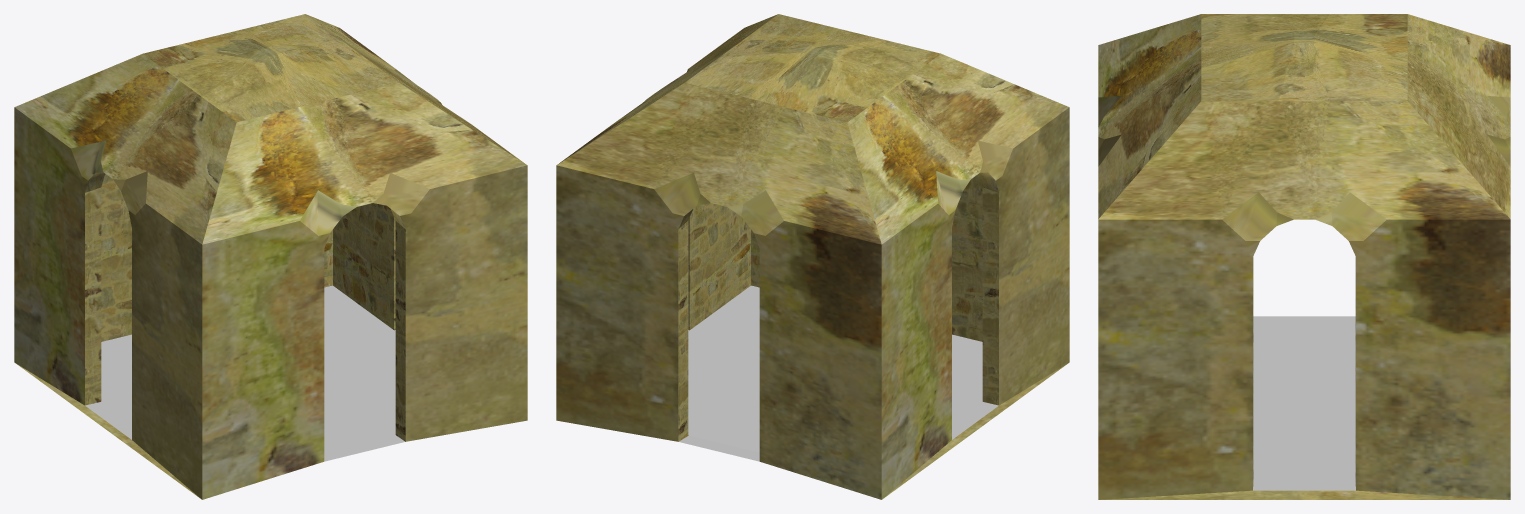
File: cell-1-4way.fbx
3 renders of one model, left to right at view 1: azimuth 30°, elevation 25°; view 2: azimuth 150°, elevation 25°; view 3: azimuth 270°, elevation 25°, orthographic. The views are drawn at different scales.
Parts seen in each view (by area): view 1: cell-4-way; view 2: cell-4-way; view 3: cell-4-way.
Boxes of the visible parts, bbox=[...] form: cell-4-way: bbox=[14, 14, 527, 499]; cell-4-way: bbox=[556, 14, 1069, 499]; cell-4-way: bbox=[1098, 14, 1510, 499].
Size of the model in its own units: 400 by 400 by 400.
